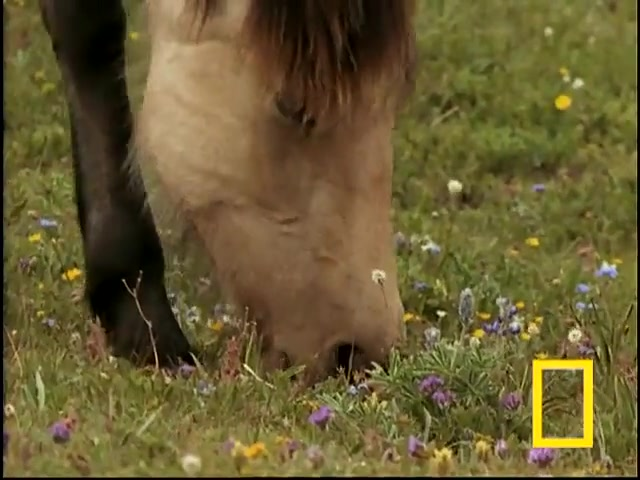horse: (29, 1, 431, 375)
